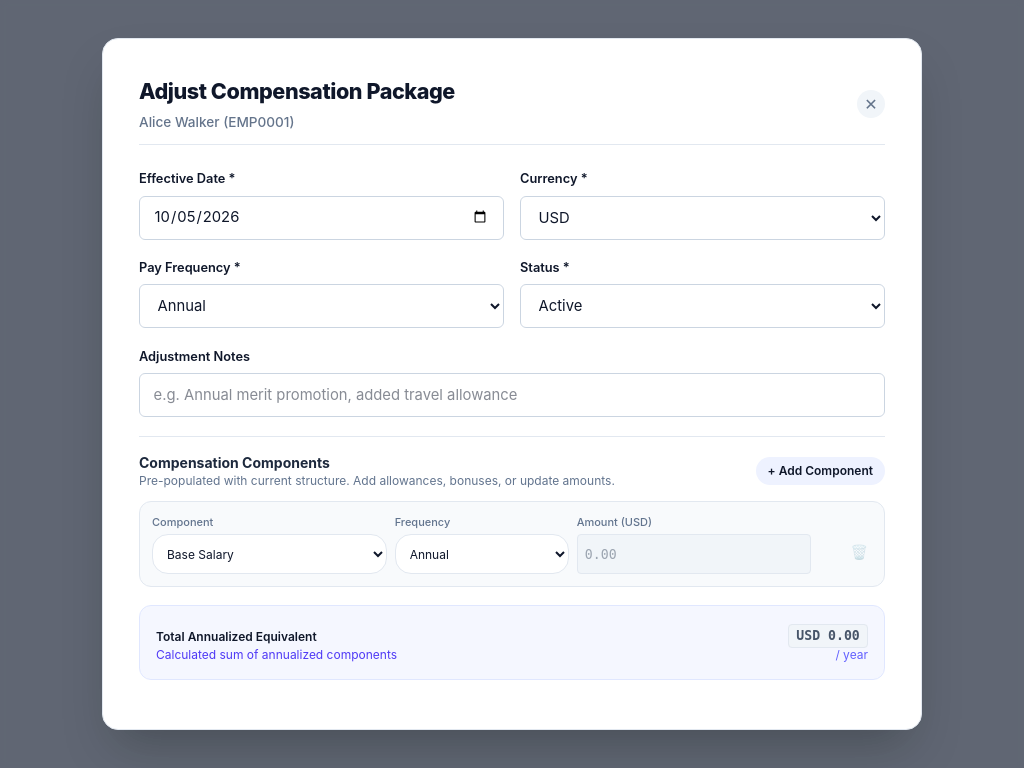
Test: AdjustCompensationModal Component › allows adding and removing dynamic components and calculates live annualized total
In the number field named "Component Amount": (694, 554) [577,534,811,574], type "120000"
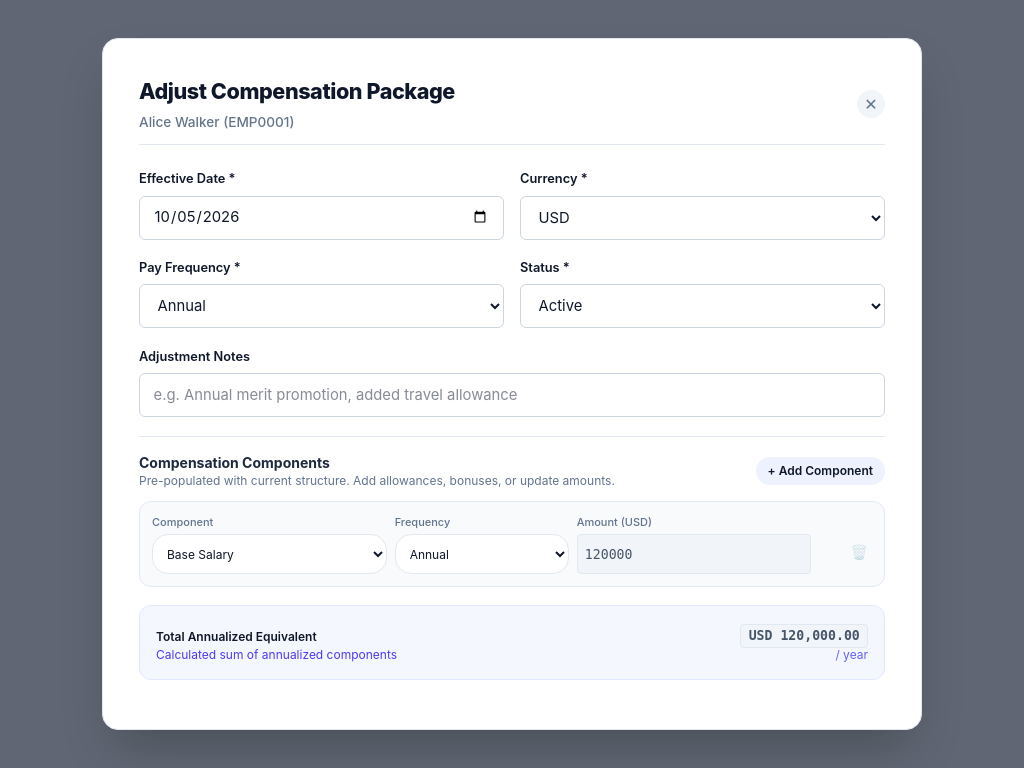
Result: the text "USD 120,000.00" is shown at [740,624,868,648]
Add another component
Click the button "+ Add Component": (820, 470) [756,456,885,484]
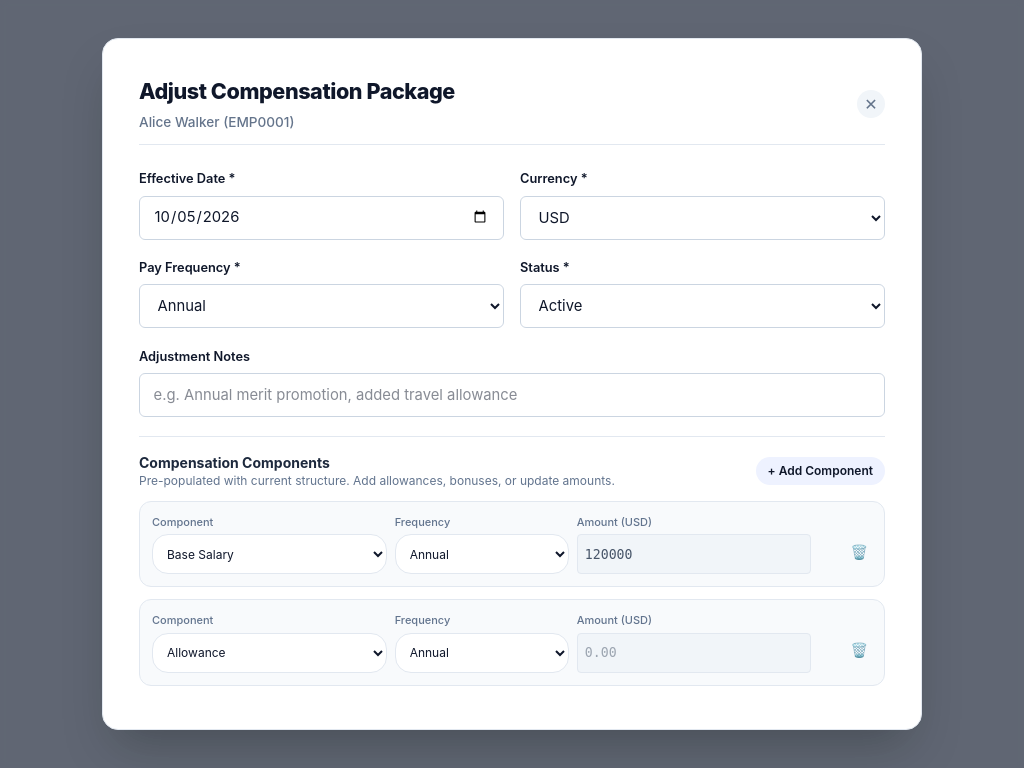
Result: the number of number fields named "Component Amount" is 2
In the number field named "Component Amount": (694, 652) [577,632,811,672], type "20000"
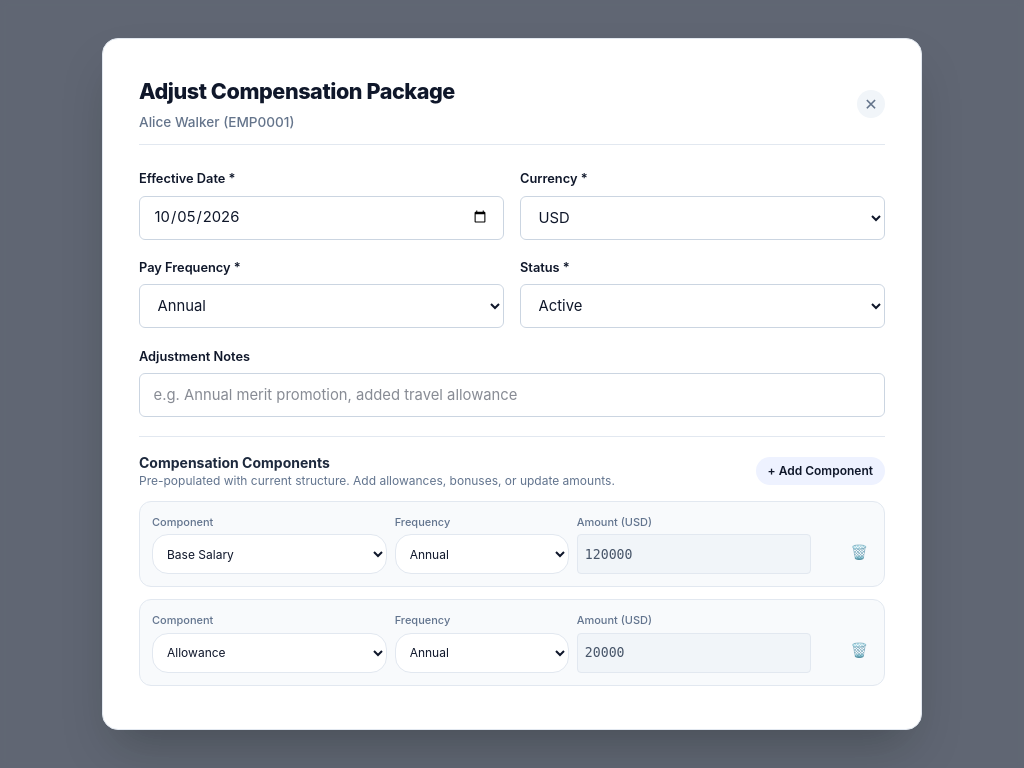
Remove the second component
Click the 2nd button titled "Remove component": (859, 650) [846,636,872,664]
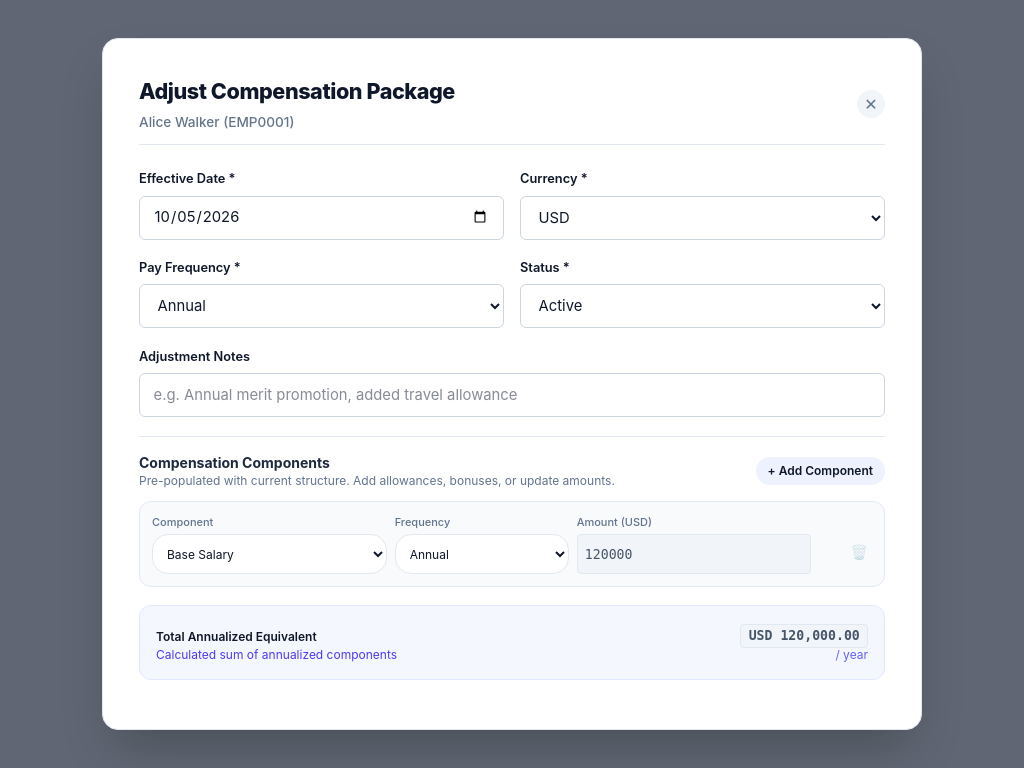
Result: the number of number fields named "Component Amount" is 1 at [577,534,811,574]
Result: the text "USD 120,000.00" is shown at [740,624,868,648]
